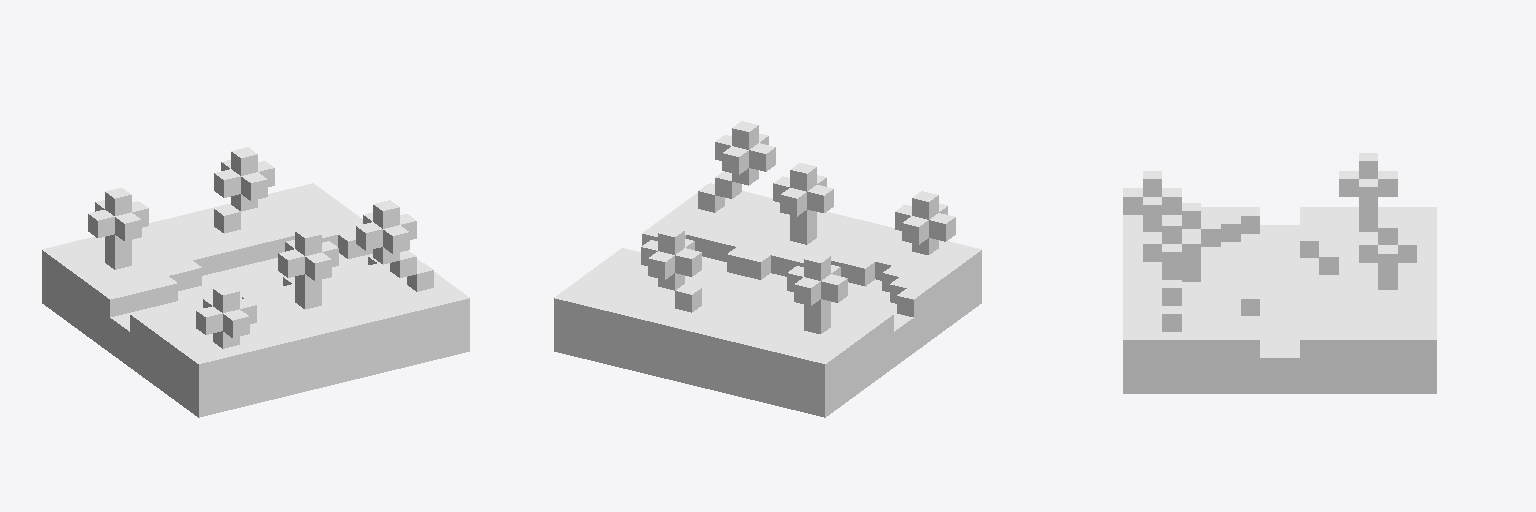
File: RiverStraight.obj
The picture shows the model from 3 angles: view 1: azimuth 30°, elevation 25°; view 2: azimuth 150°, elevation 25°; view 3: azimuth 270°, elevation 25°; orthographic projection.
Visible parts, largest first — view 1: RiverStraight; view 2: RiverStraight; view 3: RiverStraight.
Boxes of the visible parts, <box> form: RiverStraight: <box>42,147,469,417</box>; RiverStraight: <box>554,121,981,417</box>; RiverStraight: <box>1123,153,1436,393</box>.
Bounding box in the file's own units: 16 × 8 × 16.